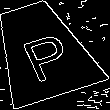P_N: (11, 21, 73, 81)
